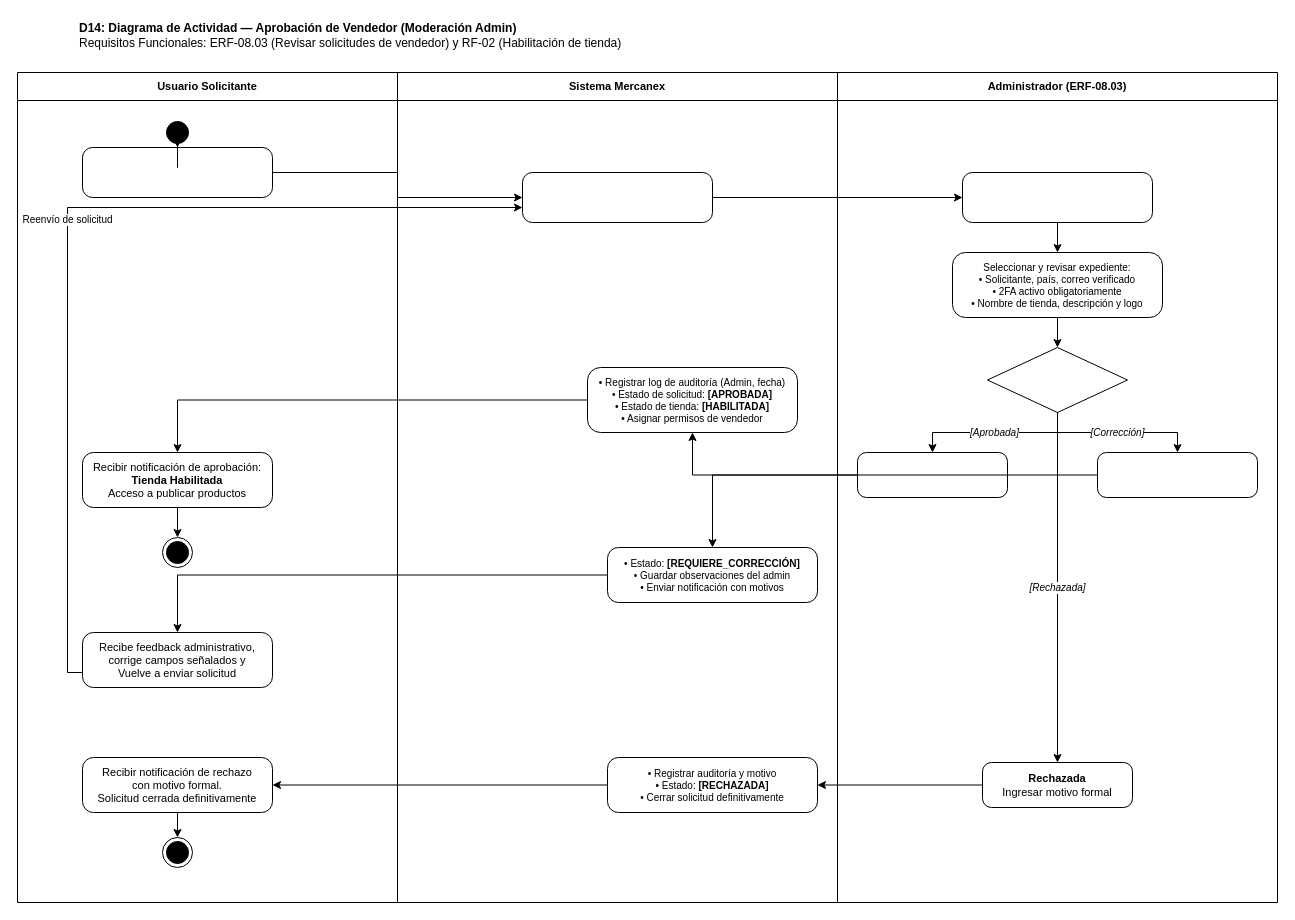
This 1295x920 diagram has some shape labels left out. Each missing label, with the centre of its shape:
"Acceder a lista de solicitudes pendientes en panel admin" goes at point (1057, 197).
"Aprobada Confirmar visto bueno" goes at point (932, 475).
"Corrección Ingresar observaciones" goes at point (1177, 475).
"Registrar solicitud como: [PENDIENTE_REVISIÓN] Colocar en cola de moderación" goes at point (617, 197).
"Solicitar ser vendedor enviando datos de tienda [Precondición: 2FA activo]" goes at point (177, 172).
"¿Evaluación de la Solicitud?" goes at point (1057, 379).
